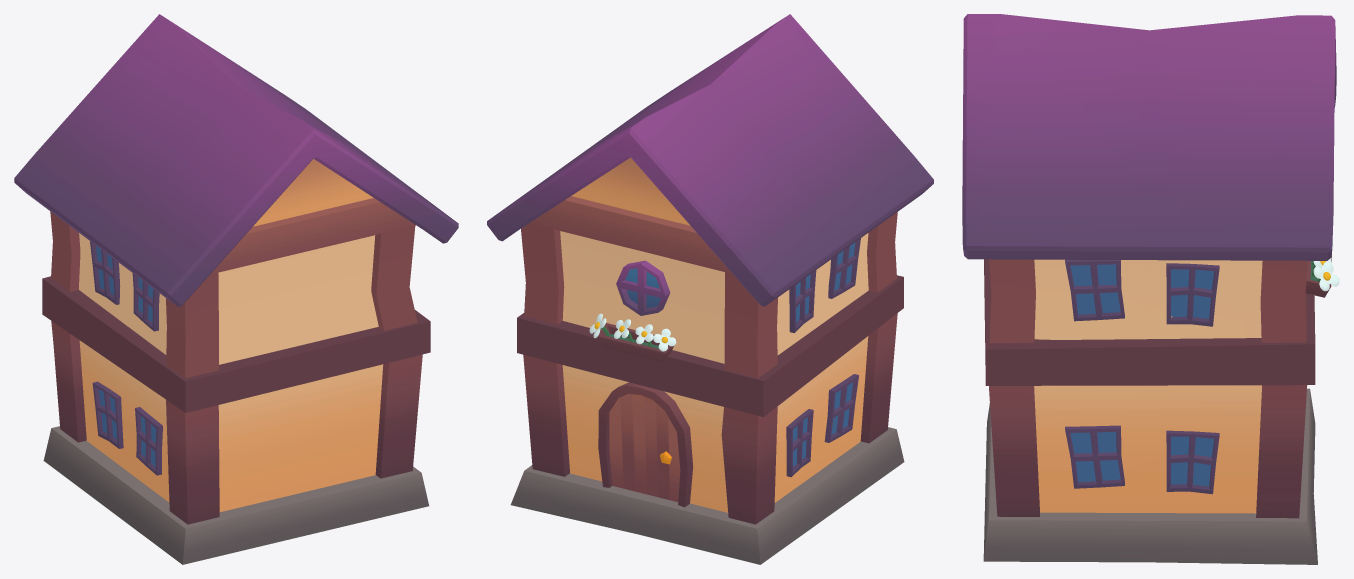
Rendered from house_2story_purple.glb.
3 renders of one model, left to right at view 1: azimuth 30°, elevation 25°; view 2: azimuth 150°, elevation 25°; view 3: azimuth 270°, elevation 25°, orthographic. The views are drawn at different scales.
Parts seen in each view (by area): view 1: House_2Story_Purple.001_Material.005_0; view 2: House_2Story_Purple.001_Material.005_0; view 3: House_2Story_Purple.001_Material.005_0.
Part boxes in pixels (x1,y1,x2,y2): House_2Story_Purple.001_Material.005_0: [14, 14, 458, 564]; House_2Story_Purple.001_Material.005_0: [487, 14, 933, 564]; House_2Story_Purple.001_Material.005_0: [962, 14, 1339, 564].
Size of the model in its own units: 3.99 by 5.37 by 3.84.
Materials: 1 (1 with a texture image).
